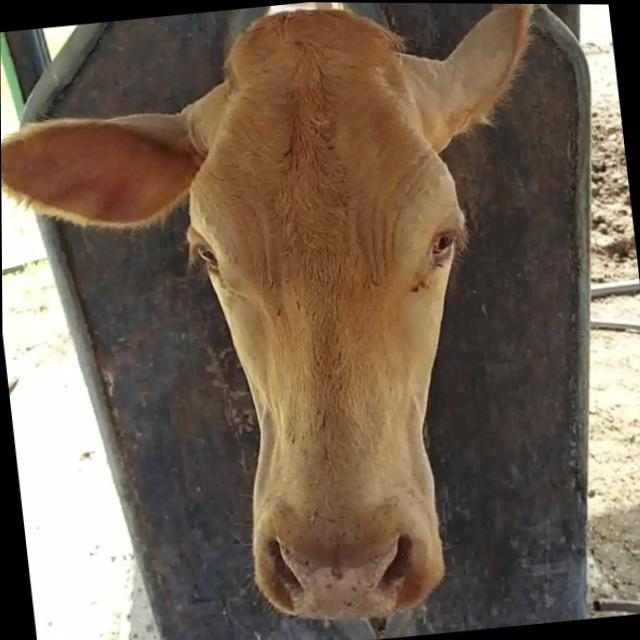cowFace: (158, 1, 504, 629)
